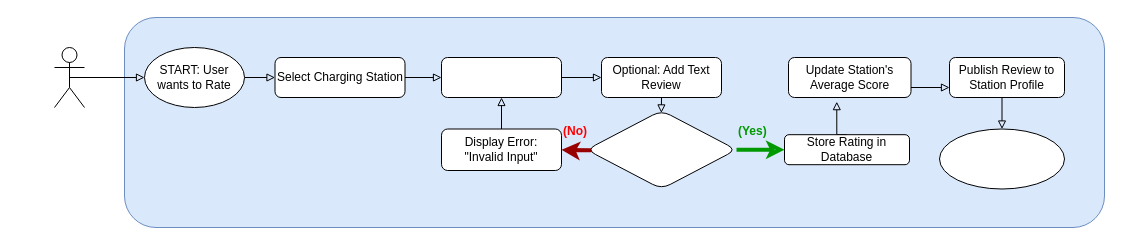
The diagram is 1122 pixels wide and 245 high, and some of its shapes have lost their labels. Each missing label, with the centre of its shape:
"DECISION POINT: Is Input Valid?" goes at [661,149].
"End: Rating Visible to All Users" goes at [1001,158].
"Enter Star Rating (1-5 Stars)" goes at [501,77].
"USER (RESIDENT)" goes at [69,77].
